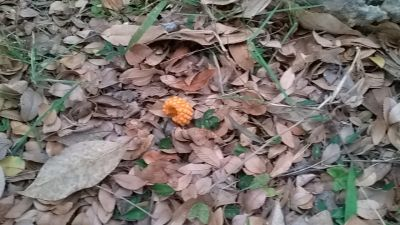eggs: (163, 95, 196, 125)
